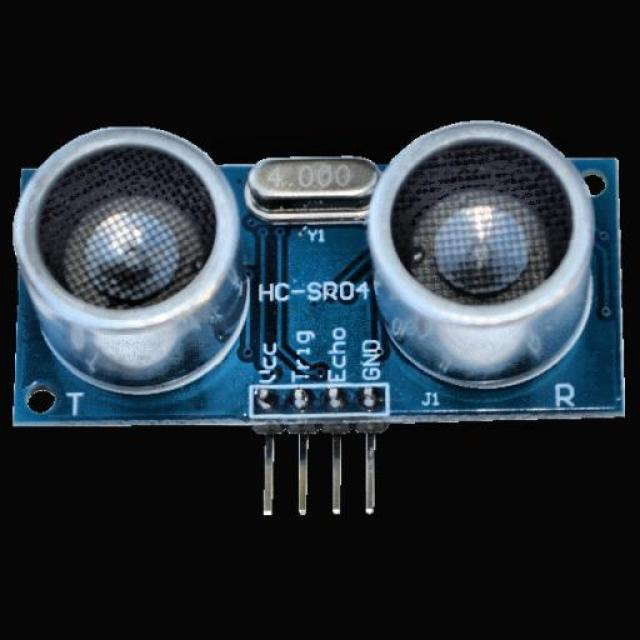Ultrasonic Sensor: (4, 114, 629, 517)
